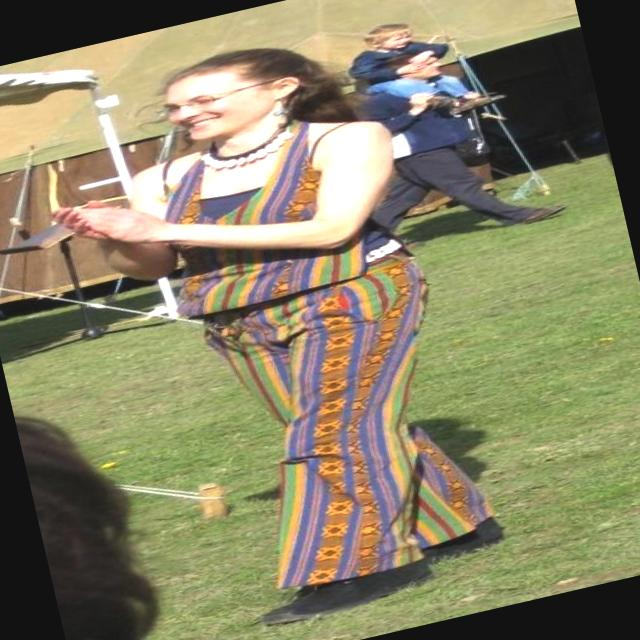no_vest: (77, 78, 436, 336)
